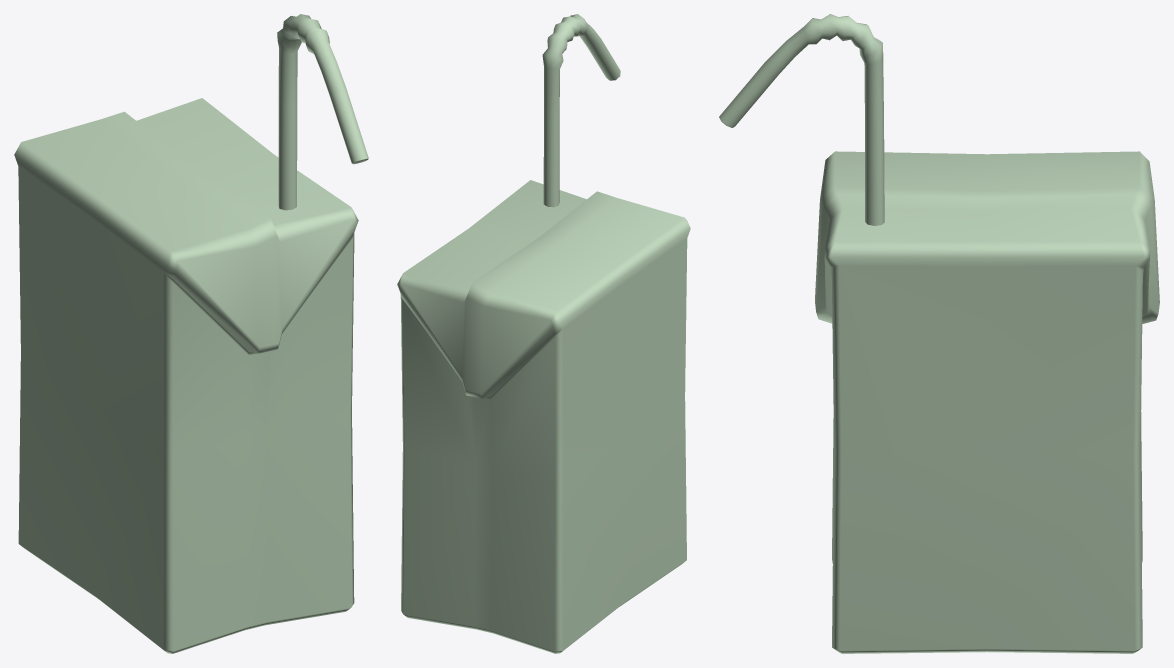
File: juice_box.fbx
3 renders of one model, left to right at view 1: azimuth 30°, elevation 25°; view 2: azimuth 150°, elevation 25°; view 3: azimuth 270°, elevation 25°, orthographic. The views are drawn at different scales.
Visible parts, largest first — view 1: juice_box; view 2: juice_box; view 3: juice_box.
Boxes of the visible parts, box(x1,y1,x2,y2) form: juice_box: box(14, 14, 368, 653); juice_box: box(397, 14, 690, 653); juice_box: box(719, 14, 1159, 653).
Bounding box in the file's own units: 1.67 × 5.06 × 3.27.
